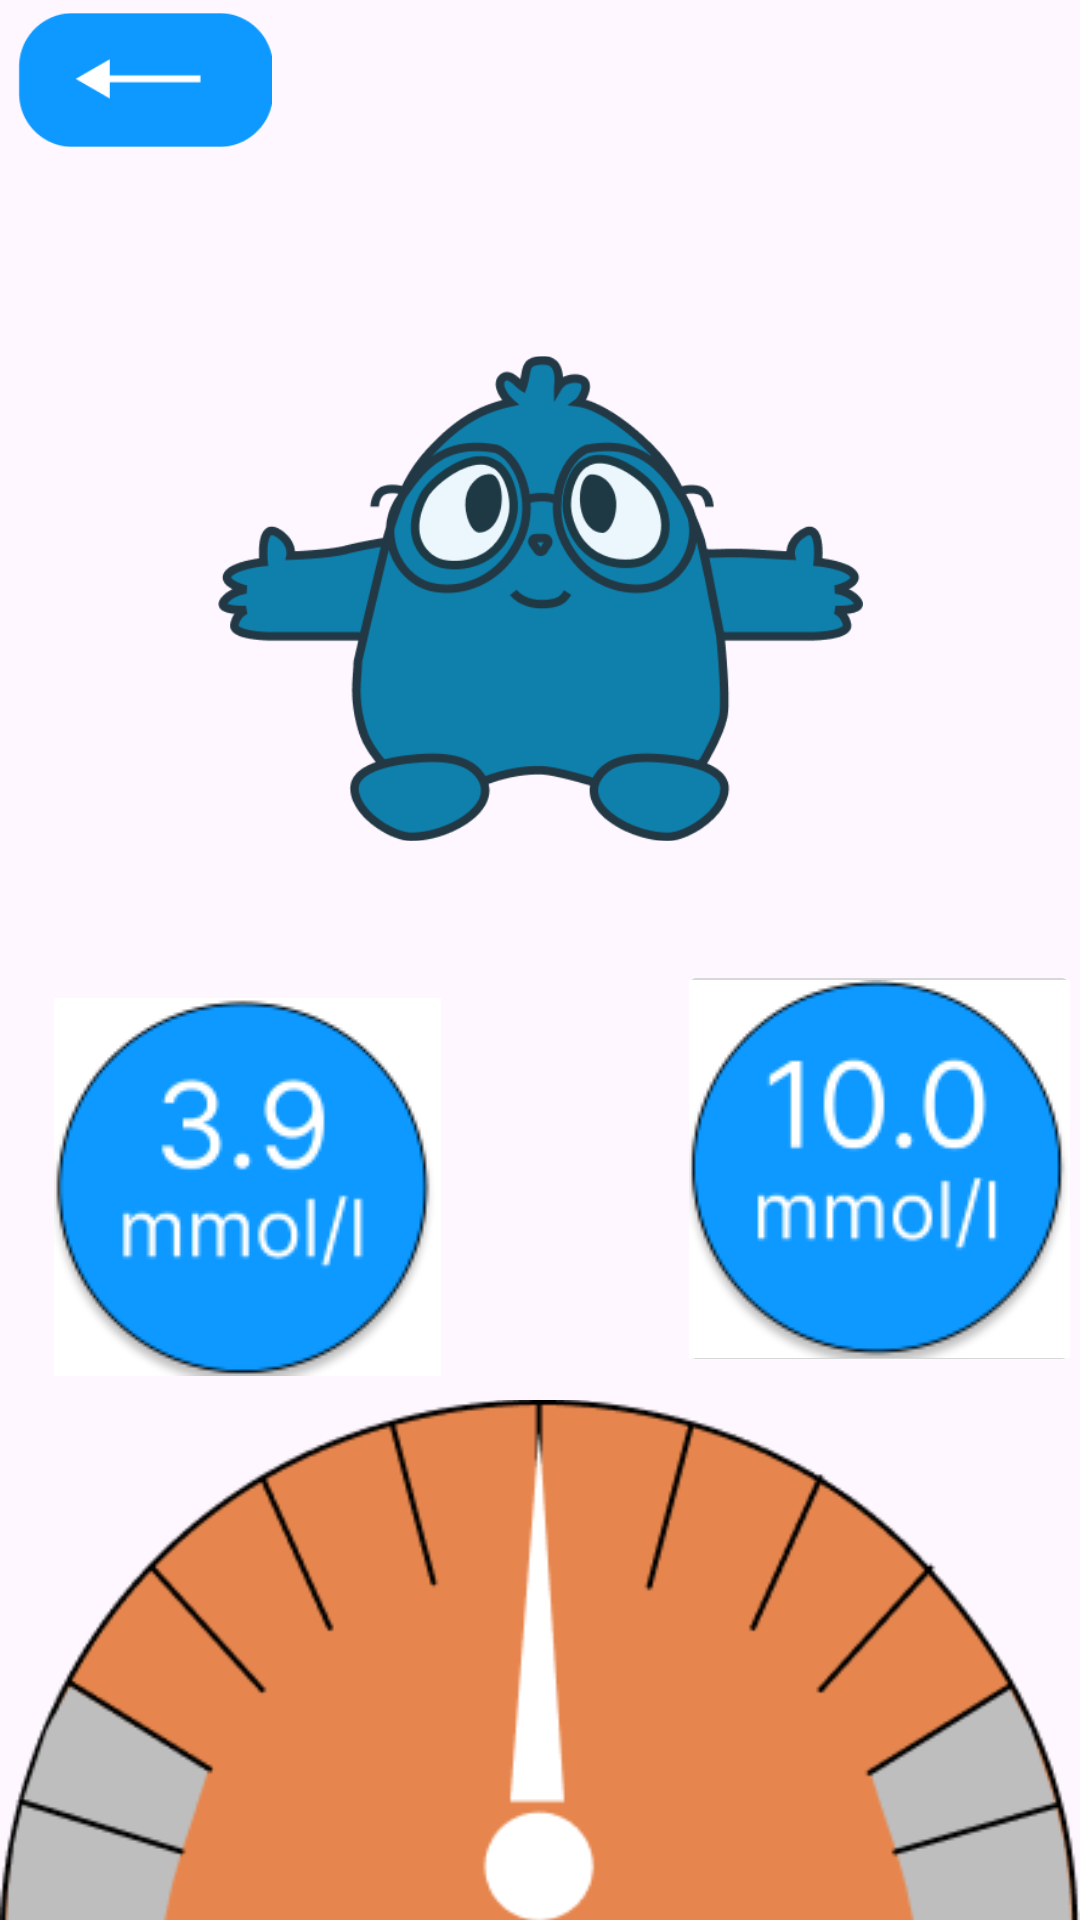

Icons on this 1080w x 1920h Android screen, each with the point to tap as (x=x, y=y):
back: (x=145, y=80)
